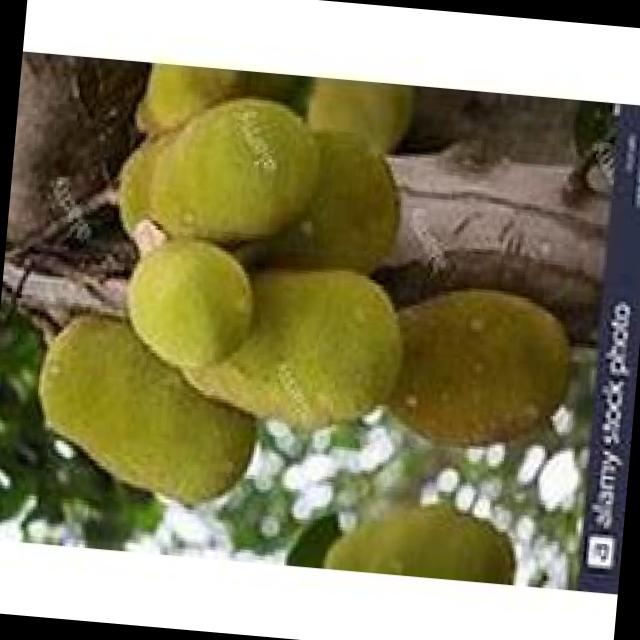Fruit: (89, 212, 429, 463)
